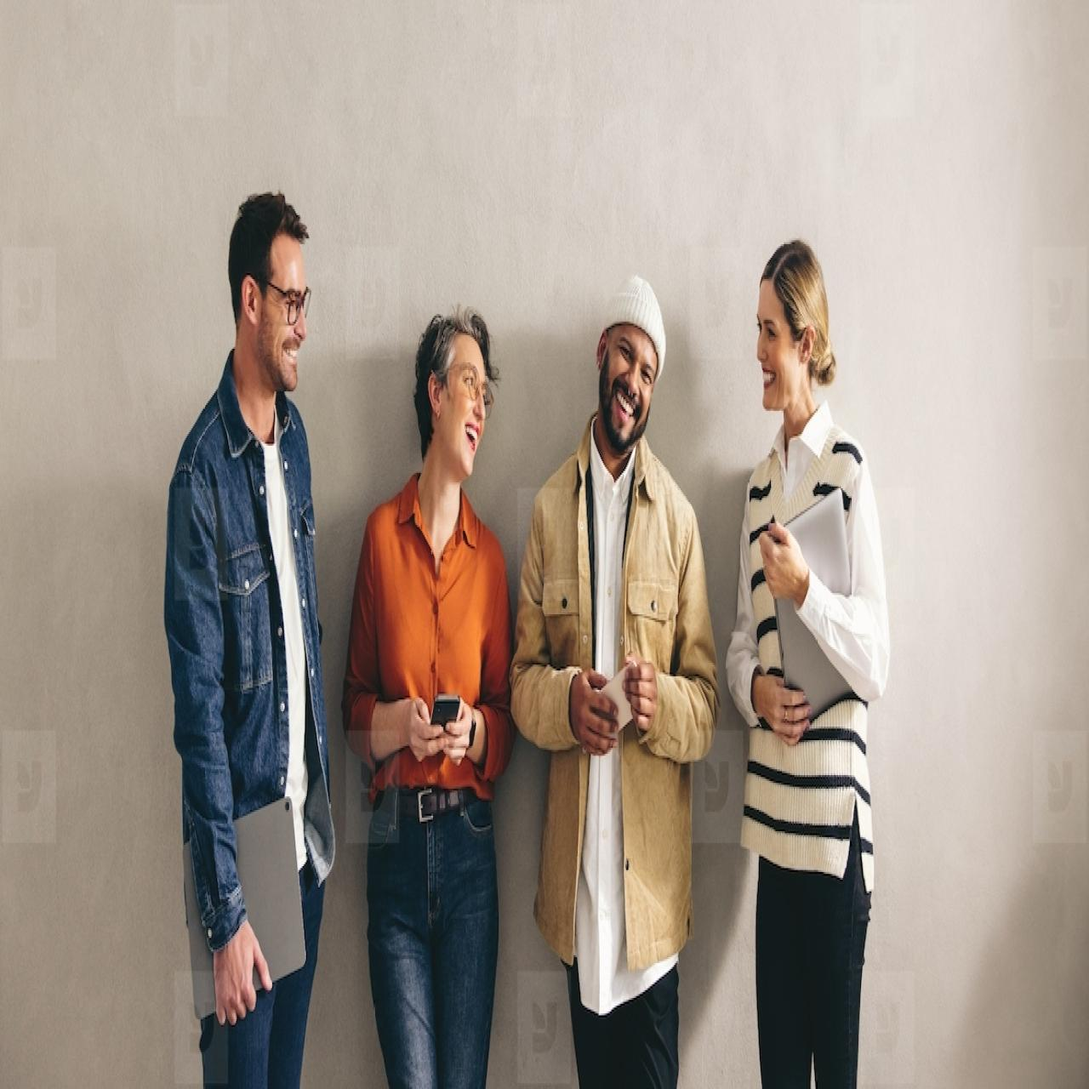NO_Safety_Vest: (546, 458, 692, 876), (743, 430, 875, 841), (184, 418, 311, 845), (371, 484, 501, 804)
Person: (517, 248, 726, 1089), (163, 170, 338, 1079), (720, 227, 887, 1089), (347, 277, 514, 1069)
